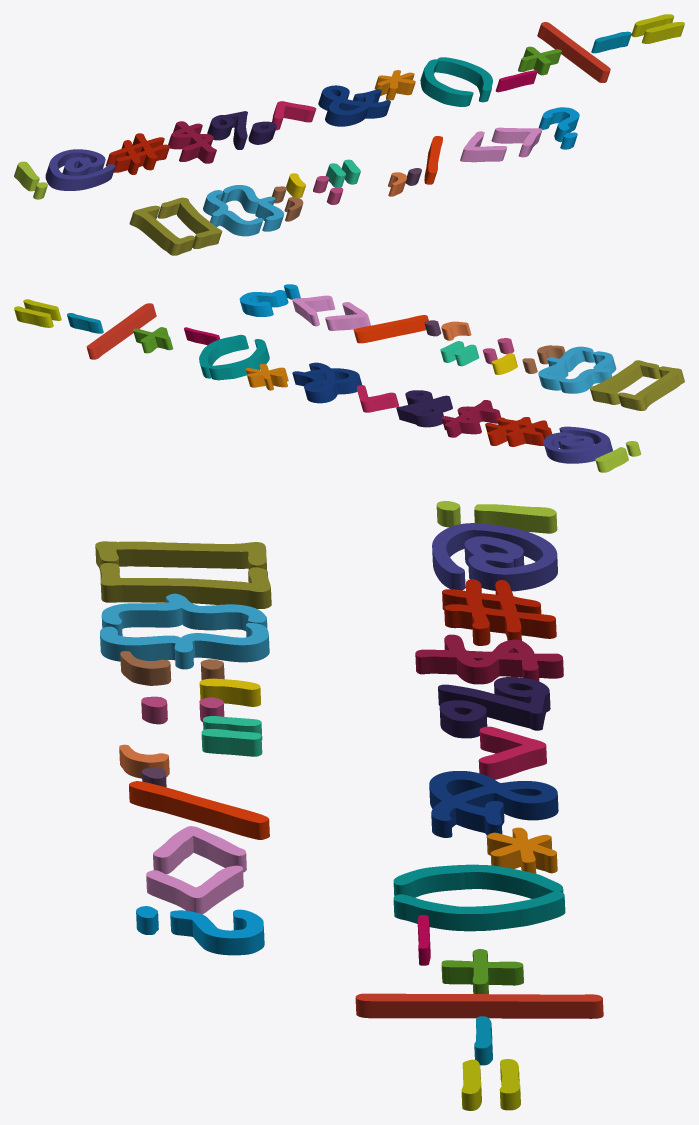
3 views of the same model, one above another, from view 1: azimuth 30°, elevation 25°; view 2: azimuth 150°, elevation 25°; view 3: azimuth 270°, elevation 25° (orthographic). The views are drawn at different scales.
Visible parts, largest first — view 1: Text_002, Text_007, Text_003, Text_005, Text_013, Text_028, Text_029, Text_004, Text_026, Text_027, Text_010, Text_009 (+14 smaller); view 2: Text_002, Text_007, Text_003, Text_005, Text_028, Text_013, Text_029, Text_004, Text_026, Text_016, Text_027, Text_019 (+16 smaller); view 3: Text_002, Text_007, Text_013, Text_005, Text_003, Text_028, Text_004, Text_026, Text_029, Text_010, Text_027, Text_009 (+14 smaller).
Part boxes in pixels (x1,y1,x2,y2): Text_002: (45,149,115,190); Text_007: (318,85,390,126); Text_003: (105,133,169,174); Text_005: (207,111,276,149); Text_013: (537,22,610,82); Text_028: (157,197,222,248); Text_029: (129,205,195,255); Text_004: (168,121,216,163); Text_026: (221,185,284,231); Text_027: (203,190,263,236); Text_010: (435,57,492,102); Text_009: (420,59,473,106); Text_002: (543,426,612,463); Text_007: (292,362,361,403); Text_003: (485,417,552,446); Text_005: (396,390,452,427); Text_028: (589,360,660,404); Text_013: (86,303,156,359); Text_029: (618,366,684,410); Text_004: (441,400,501,437); Text_026: (538,346,594,390); Text_016: (239,284,300,316); Text_027: (559,351,616,393); Text_019: (353,315,428,343); Text_002: (432,523,557,591); Text_007: (429,771,558,837); Text_013: (355,993,603,1018); Text_005: (438,676,550,738); Text_003: (442,579,556,645); Text_028: (100,563,271,608); Text_004: (415,634,563,684); Text_026: (100,623,269,669); Text_029: (95,541,266,570); Text_010: (393,891,565,931); Text_027: (101,593,267,636); Text_009: (393,864,563,898).
Size of what is drawn, in the model's own units: 4.78 by 1.72 by 0.0759.
